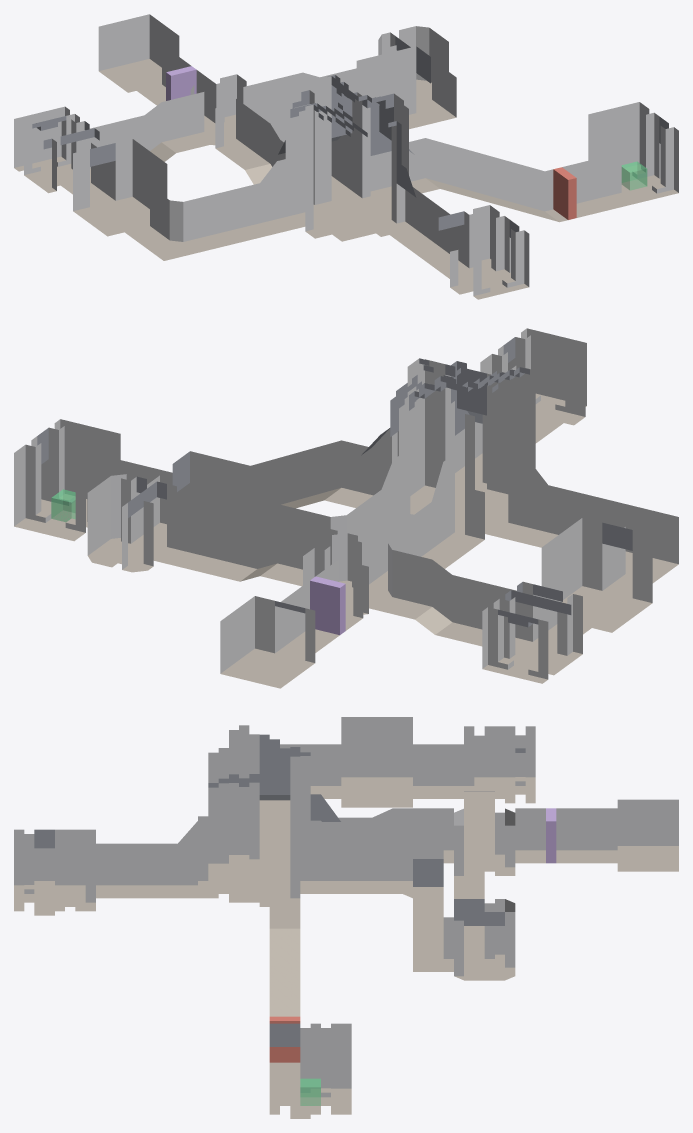
The model's file is research_08.glb.
3 renders of one model, top to bottom at view 1: azimuth 30°, elevation 25°; view 2: azimuth 150°, elevation 25°; view 3: azimuth 270°, elevation 25°, orthographic. The views are drawn at different scales.
Visible parts, largest first — view 1: corridor:6, corridor:1, room:1, corridor:7, room:6, room:2, corridor:3, room:1/portals, corridor:0, room:4, room:1/cavern, room:0 (+17 smaller); view 2: corridor:6, room:1, corridor:4, corridor:7, corridor:1, corridor:3, room:6, room:2, room:5, room:4, room:0, corridor:2 (+17 smaller); view 3: corridor:6, corridor:7, room:1, corridor:0, corridor:5, corridor:1, room:0, room:2, room:6, room:4, room:1/portals, corridor:2 (+16 smaller).
Boxes of the visible parts, box(x1,y1,x2,y2) form: corridor:6: box(66, 139, 274, 260); corridor:1: box(370, 138, 627, 222); room:1: box(285, 92, 408, 241); corridor:7: box(263, 46, 456, 181); room:6: box(98, 14, 179, 92); room:2: box(588, 102, 678, 205); corridor:3: box(84, 94, 209, 173); room:1/portals: box(302, 76, 331, 231); corridor:0: box(376, 184, 464, 270); room:4: box(14, 106, 99, 193); room:1/cavern: box(290, 75, 401, 186); room:0: box(438, 205, 529, 299); corridor:6: box(531, 485, 678, 647); room:1: box(399, 358, 535, 541); corridor:4: box(160, 502, 337, 586); corridor:7: box(136, 451, 381, 546); corridor:1: box(120, 431, 398, 508); corridor:3: box(375, 550, 522, 646); room:6: box(220, 596, 315, 688); room:2: box(14, 419, 120, 541); room:5: box(87, 474, 176, 572); room:4: box(482, 581, 582, 683); room:0: box(480, 328, 586, 439); corridor:2: box(368, 490, 484, 590); corridor:6: box(259, 717, 463, 842); corridor:7: box(341, 839, 453, 971); room:1: box(208, 725, 310, 902); corridor:0: box(96, 816, 218, 898); corridor:5: box(515, 808, 617, 863); corridor:1: box(259, 856, 300, 1088); room:0: box(14, 829, 95, 911); room:2: box(269, 1023, 351, 1114); room:6: box(617, 799, 678, 871); room:4: box(464, 726, 535, 803); room:1/portals: box(249, 734, 310, 880); corridor:2: box(322, 808, 453, 863).
Size of the model in its own units: 64 by 21 by 65.
